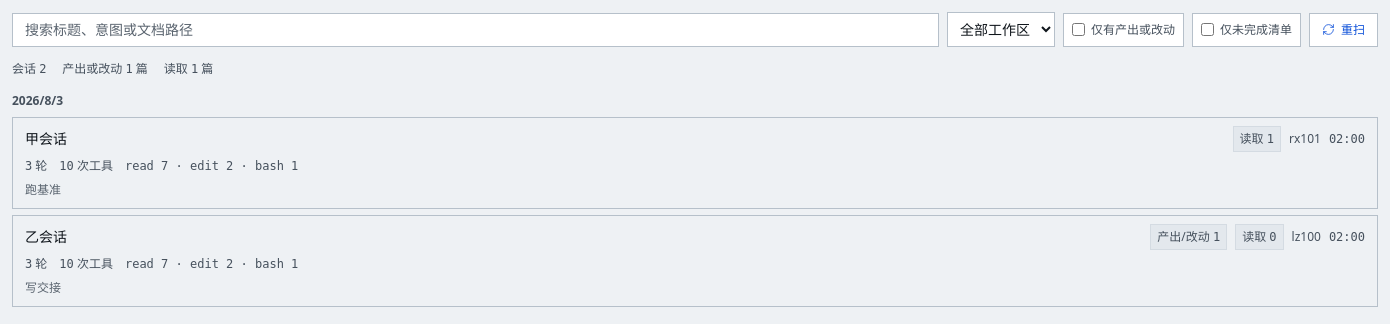
Test case: SessionsPanel › filters by workspace, by free text over intents and paths, and by having produced something
expect the text "甲会话" is shown: met, box [25, 129, 67, 148]
Select "lz100" in the dropdown named "按工作区筛选" at (1001, 30), box [947, 12, 1055, 47]
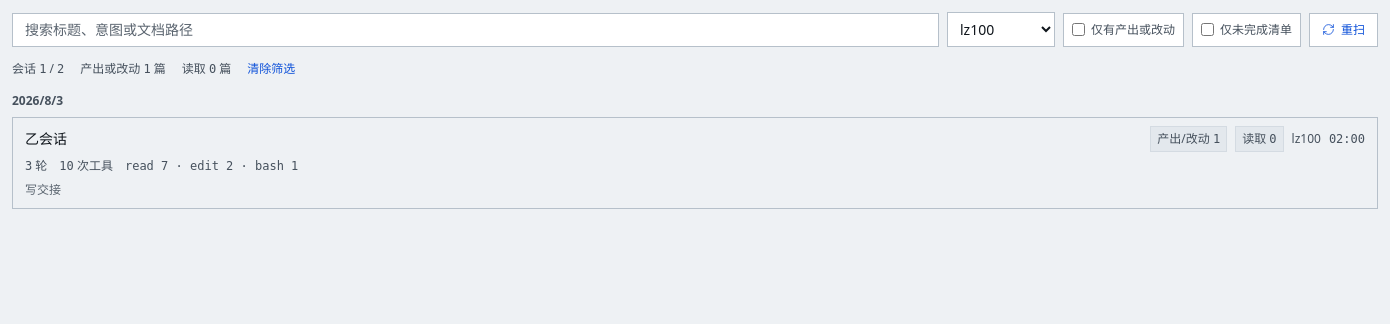
expect the text "乙会话" is shown: met, box [25, 129, 67, 148]
expect the button "甲会话" is gone: met
Click the button "清除筛选" at (271, 69), box [247, 59, 295, 79]
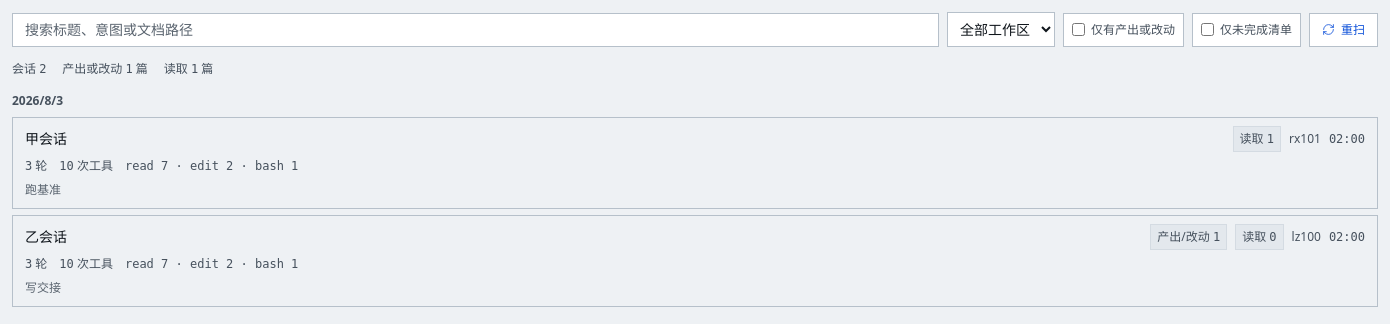
Type "基准" into the search field named "搜索会话" at (476, 30), box [12, 12, 939, 46]
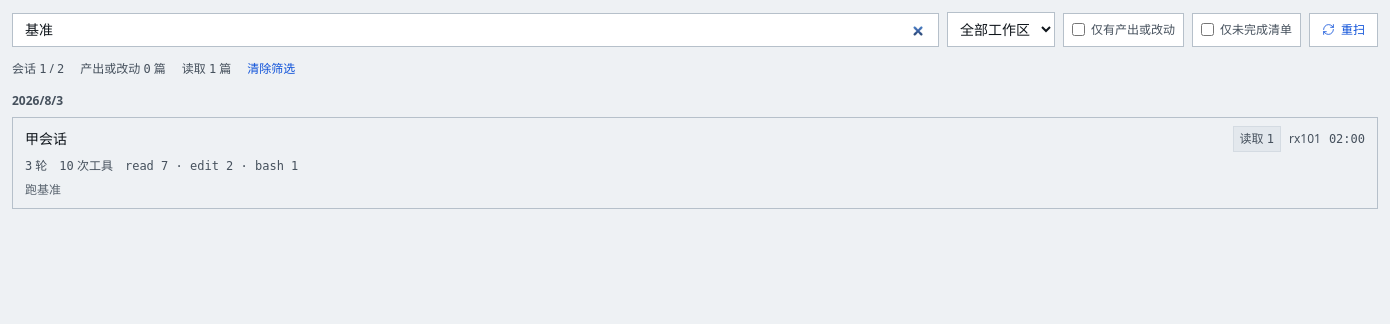
expect the text "甲会话" is shown: met, box [25, 129, 67, 148]
expect the button "乙会话" is gone: met
Note: Paths are searchable too - people remember the file, not the title.
Replace the text in the search field named "搜索会话" with "handoff.md" at (476, 30), box [12, 12, 939, 46]
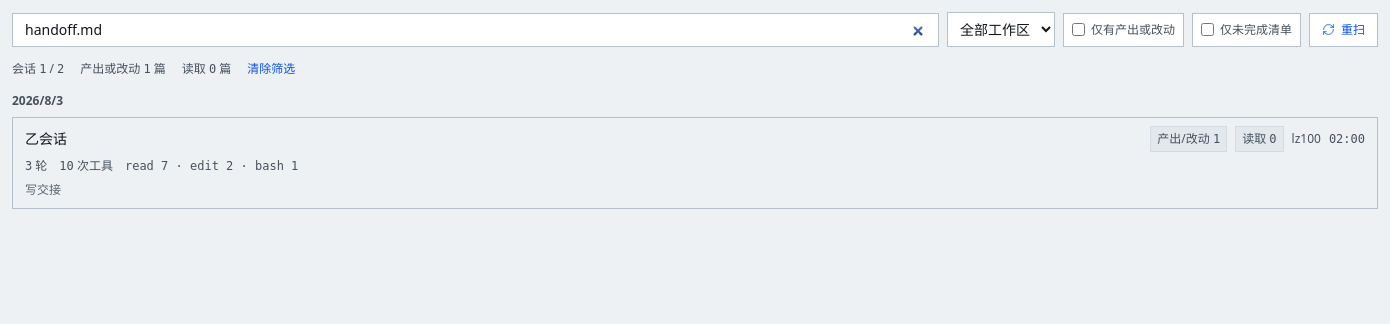
expect the text "乙会话" is shown: met, box [25, 129, 67, 148]
expect the button "甲会话" is gone: met
Clear the search field named "搜索会话" at (476, 30), box [12, 12, 939, 46]
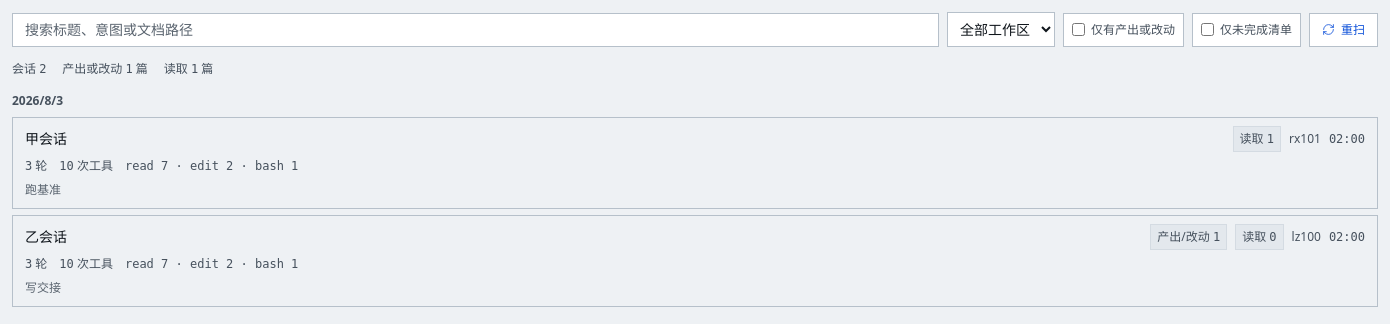
Click the checkbox labelled "仅有产出或改动" at (1078, 30), box [1072, 23, 1085, 36]
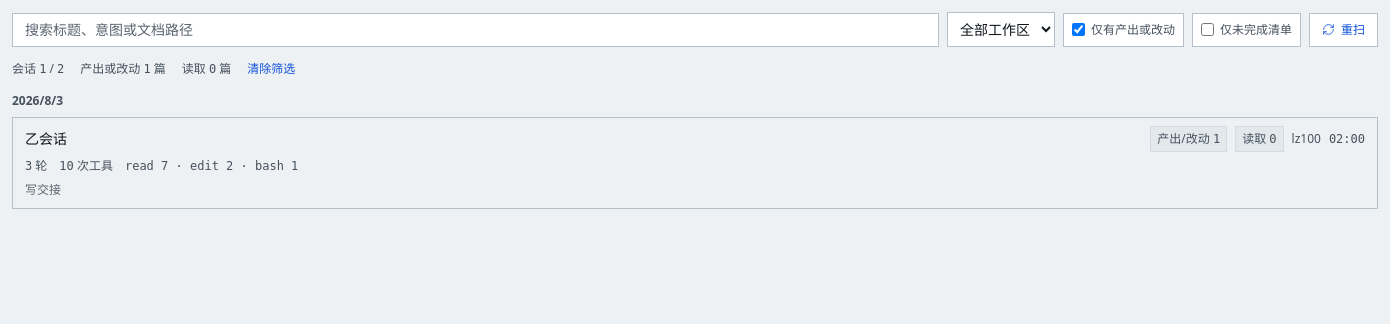
expect the text "乙会话" is shown: met, box [25, 129, 67, 148]
expect the button "甲会话" is gone: met
